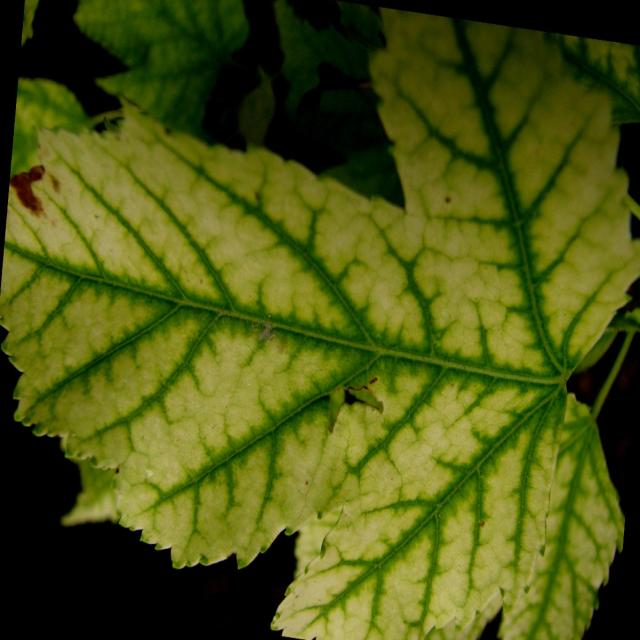Chlorosis: (5, 13, 640, 640)
